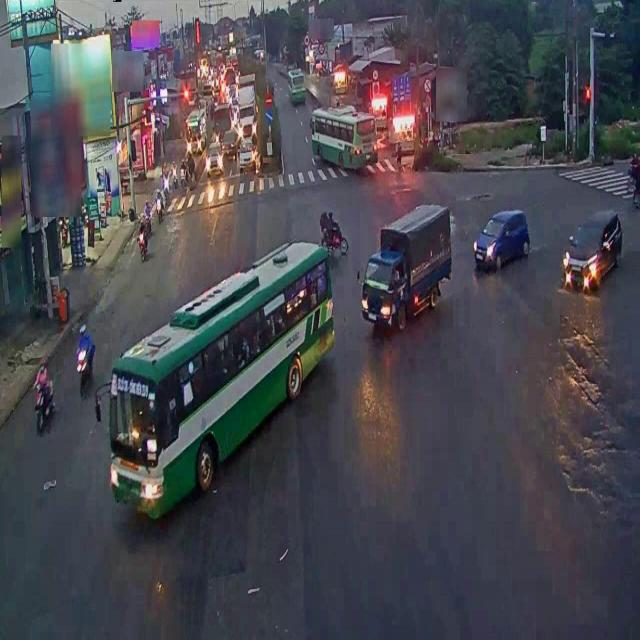bus: (111, 240, 331, 517), (304, 107, 382, 176)
car: (479, 207, 535, 275)
motorcycle: (32, 353, 56, 435), (73, 319, 95, 394), (140, 213, 152, 258)
truck: (359, 200, 458, 331)
